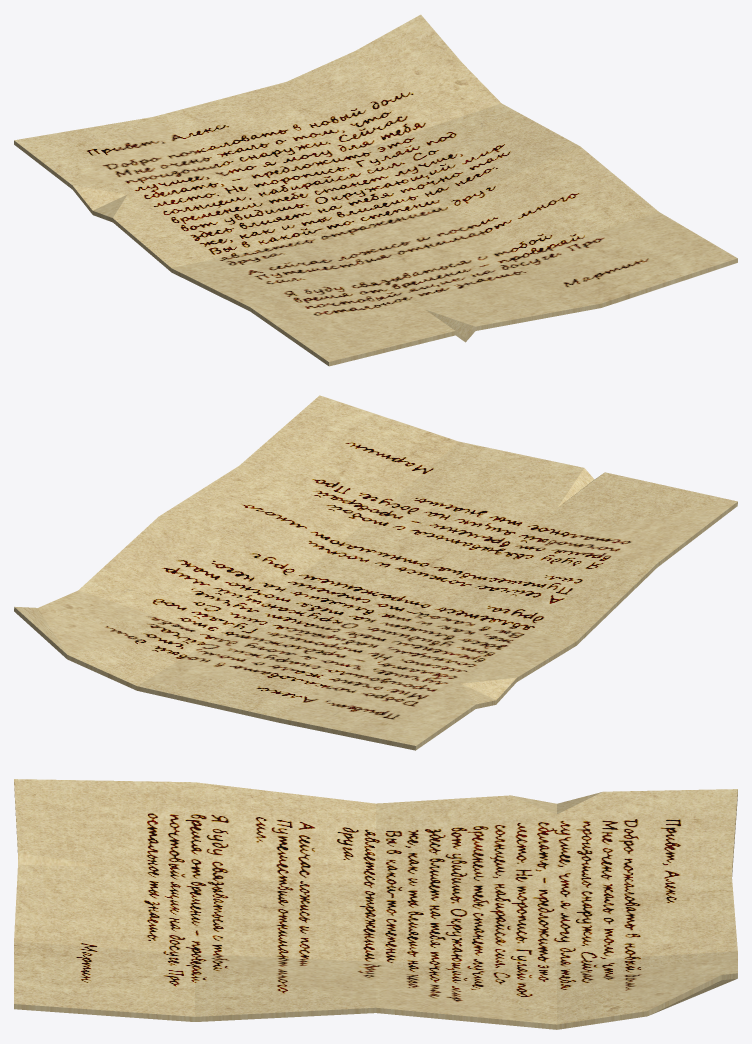
Rendered from Martin Note (a) v0-0-0-0.fbx.
The picture shows the model from 3 angles, top to bottom: view 1: azimuth 30°, elevation 25°; view 2: azimuth 150°, elevation 25°; view 3: azimuth 270°, elevation 25°; orthographic projection. The views are drawn at different scales.
Parts seen in each view (by area): view 1: Plane; view 2: Plane; view 3: Plane.
Boxes of the visible parts, x1,y1,x2,y2 form: Plane: [14, 14, 737, 366]; Plane: [14, 395, 737, 750]; Plane: [14, 779, 737, 1029].
Size of the model in its own units: 45.12 by 5.82 by 60.14.
